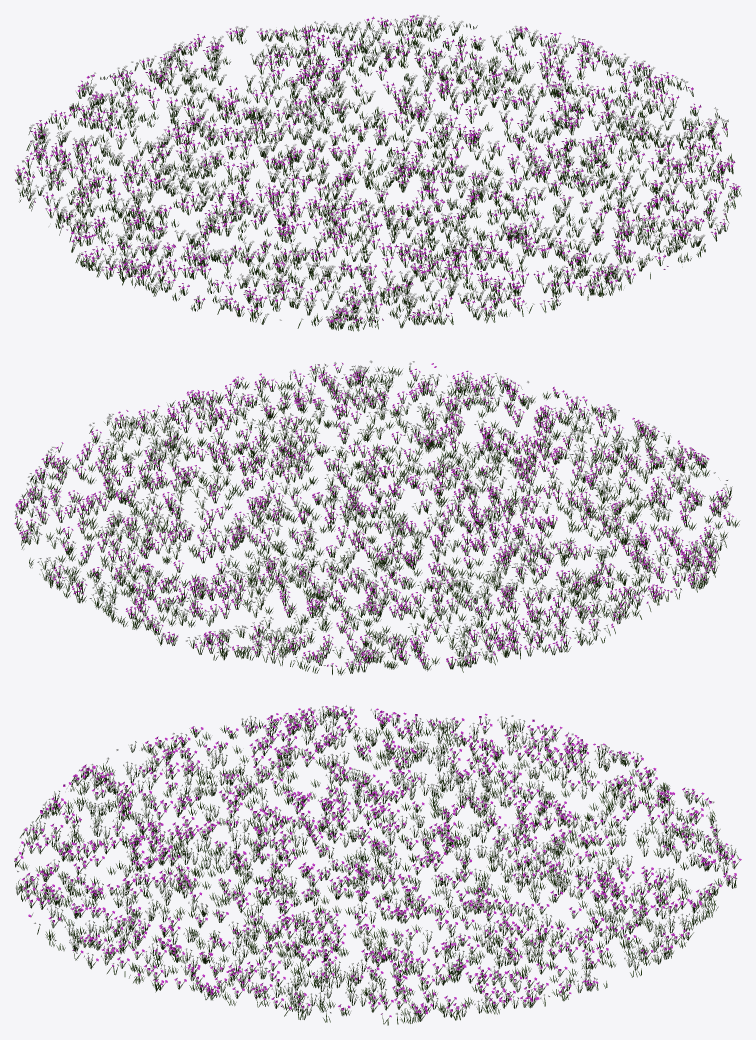
File: m_grass.FBX
3 renders of one model, top to bottom at view 1: azimuth 30°, elevation 25°; view 2: azimuth 150°, elevation 25°; view 3: azimuth 270°, elevation 25°, orthographic.
Parts seen in each view (by area): view 1: m_grass; view 2: m_grass; view 3: m_grass.
Boxes of the visible parts, <box> form: m_grass: <box>15,14,741,331</box>; m_grass: <box>14,360,739,675</box>; m_grass: <box>14,705,741,1025</box>.
Size of the model in its own units: 28975 by 463 by 28643.
